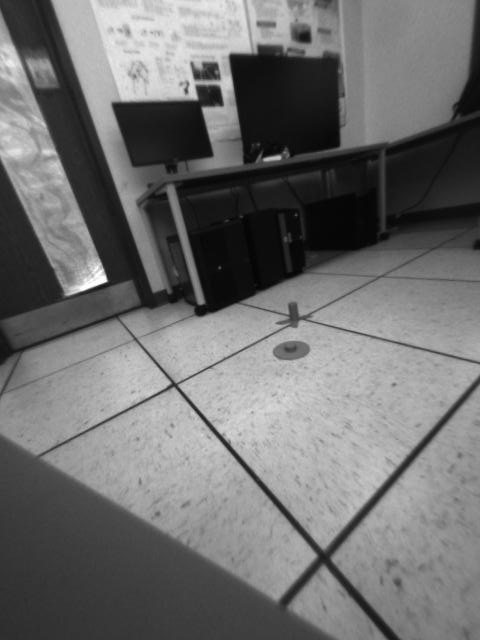X: (274, 302, 313, 328)
